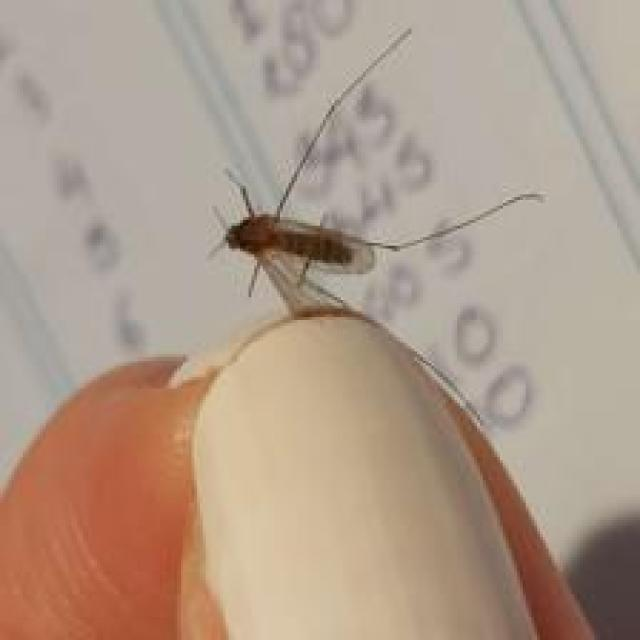Culex: (205, 24, 546, 319)
